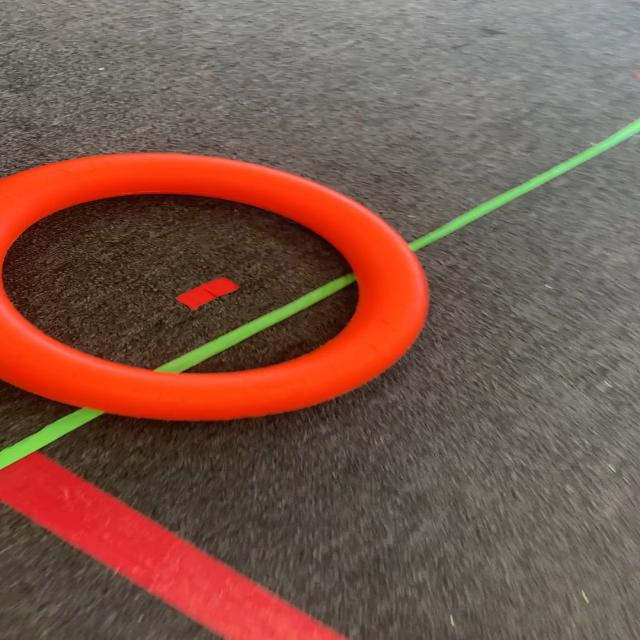notes: (1, 126, 435, 420)
